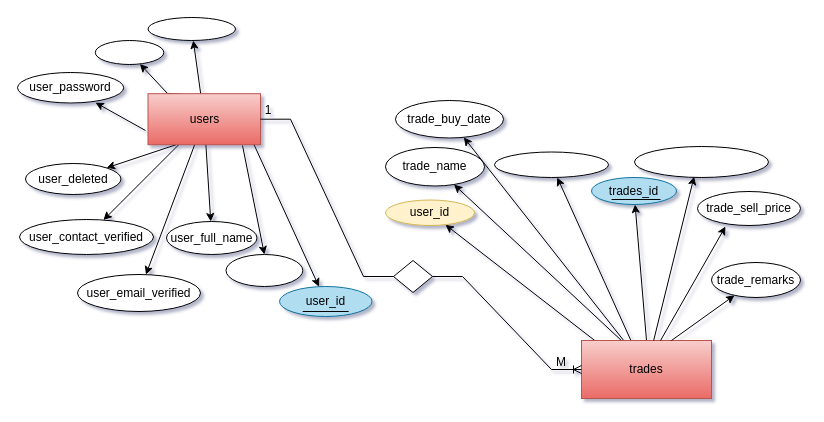
The diagram is 824 pixels wide and 422 high, and some of its shapes have lost their labels. Each missing label, with the centre of its shape:
"has" belongs at point 412,276.
"trade_purchase_price" belongs at point 701,162.
"trade_sell_date" belongs at point 551,164.
"user_contact" belongs at point 264,270.
"user_dob" belongs at point 129,52.
"user_email" belongs at point 191,28.
